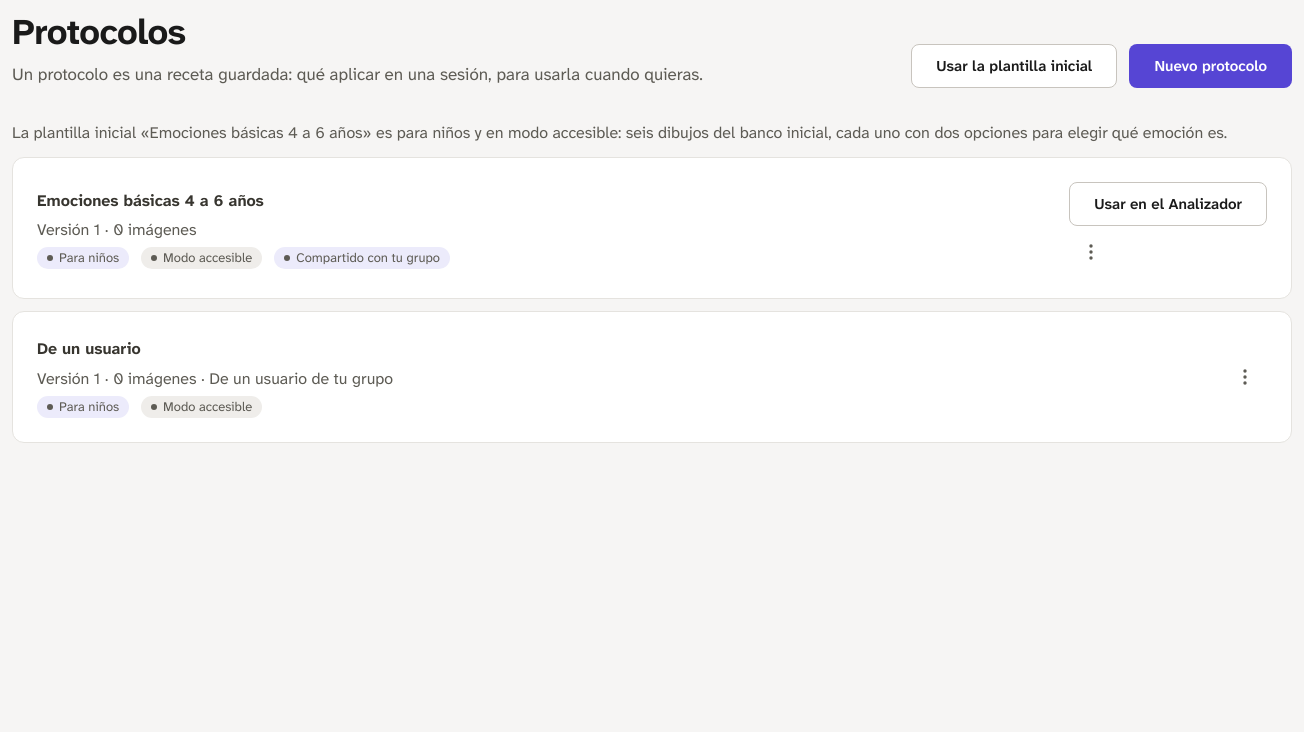
Scenario: plantillas de protocolos › el docente ve cuáles comparte y no copia los de los usuarios de su grupo
Check: the text "Compartido con tu grupo" is shown, box [274, 247, 450, 269]
Click the button named "Más acciones para «Emociones básicas 4 a 6 años»": (1091, 252) [1069, 230, 1113, 274]
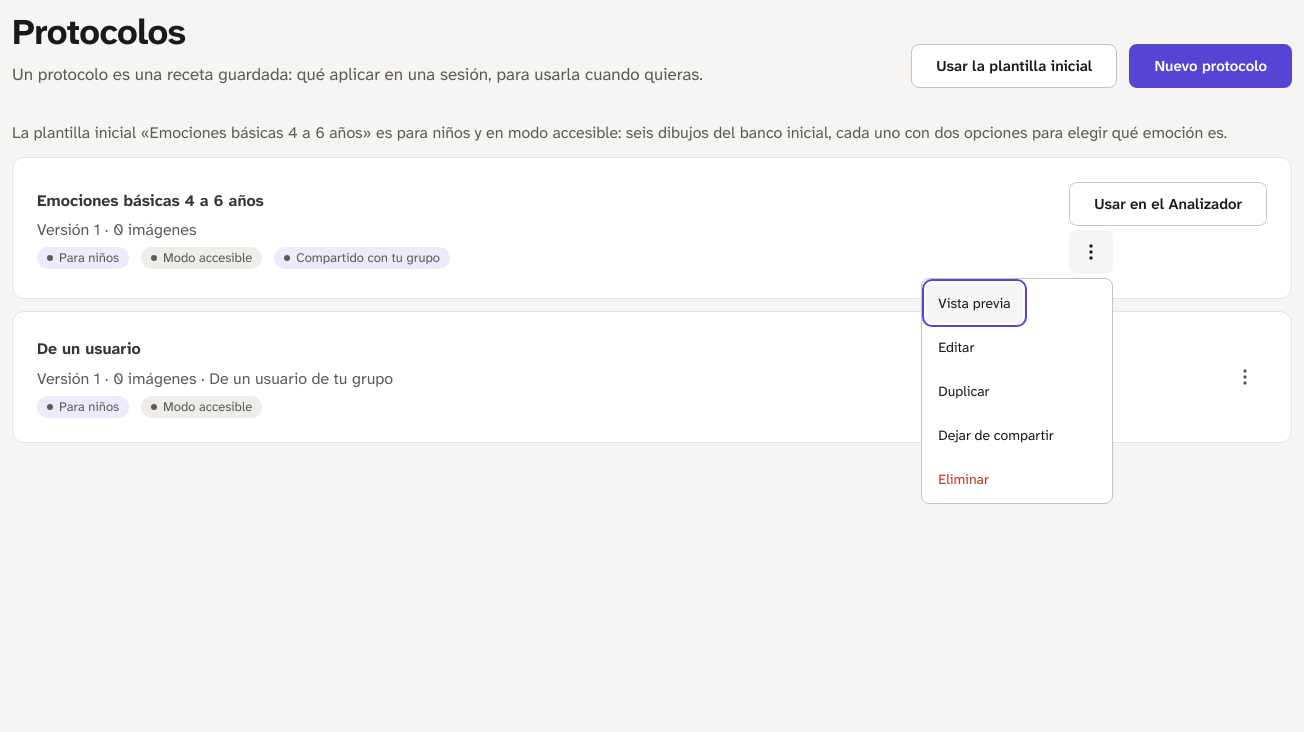
Check: the menu items read "Vista previa", "Editar", "Duplicar", "Dejar de compartir", "Eliminar", in this order, box [926, 283, 1023, 323]; [926, 327, 986, 367]; [926, 371, 1002, 411]; [926, 415, 1066, 455]; [926, 459, 1001, 499]
Press Escape
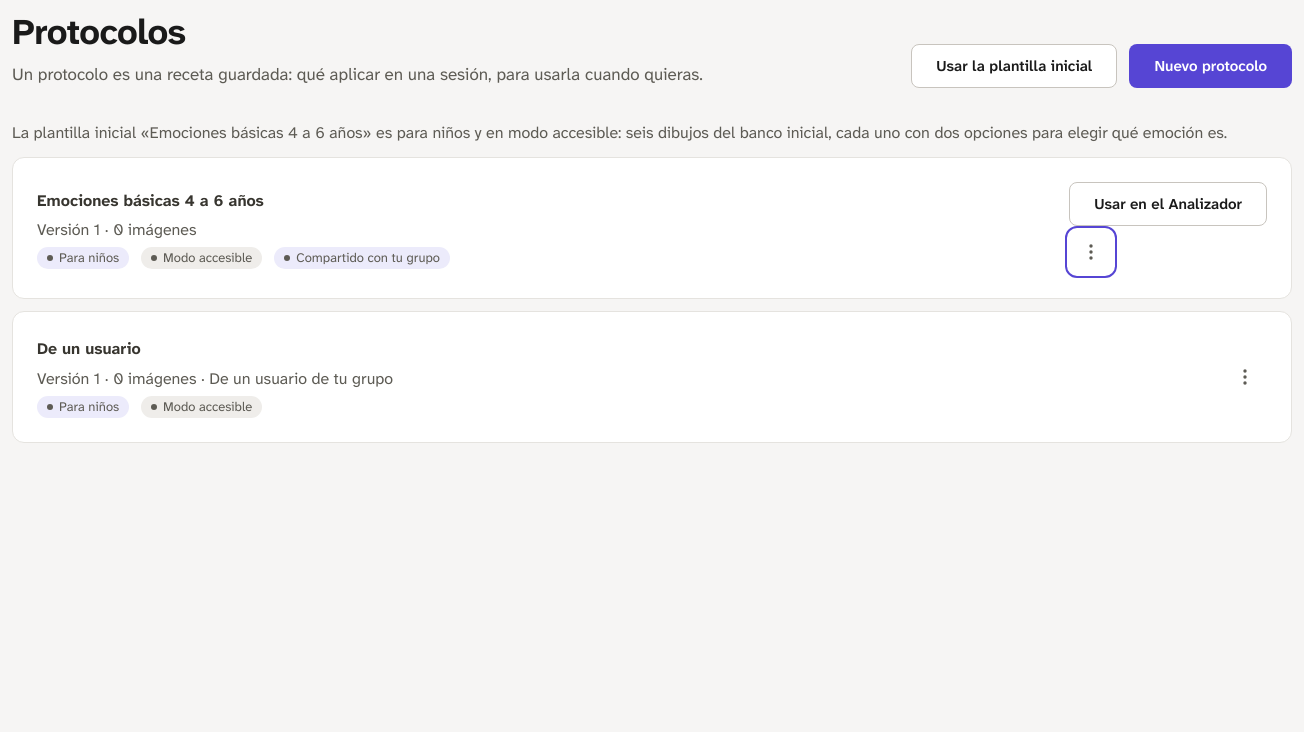
Check: the menu is gone
Click the button named "Más acciones para «De un usuario»": (1245, 377) [1223, 355, 1267, 399]
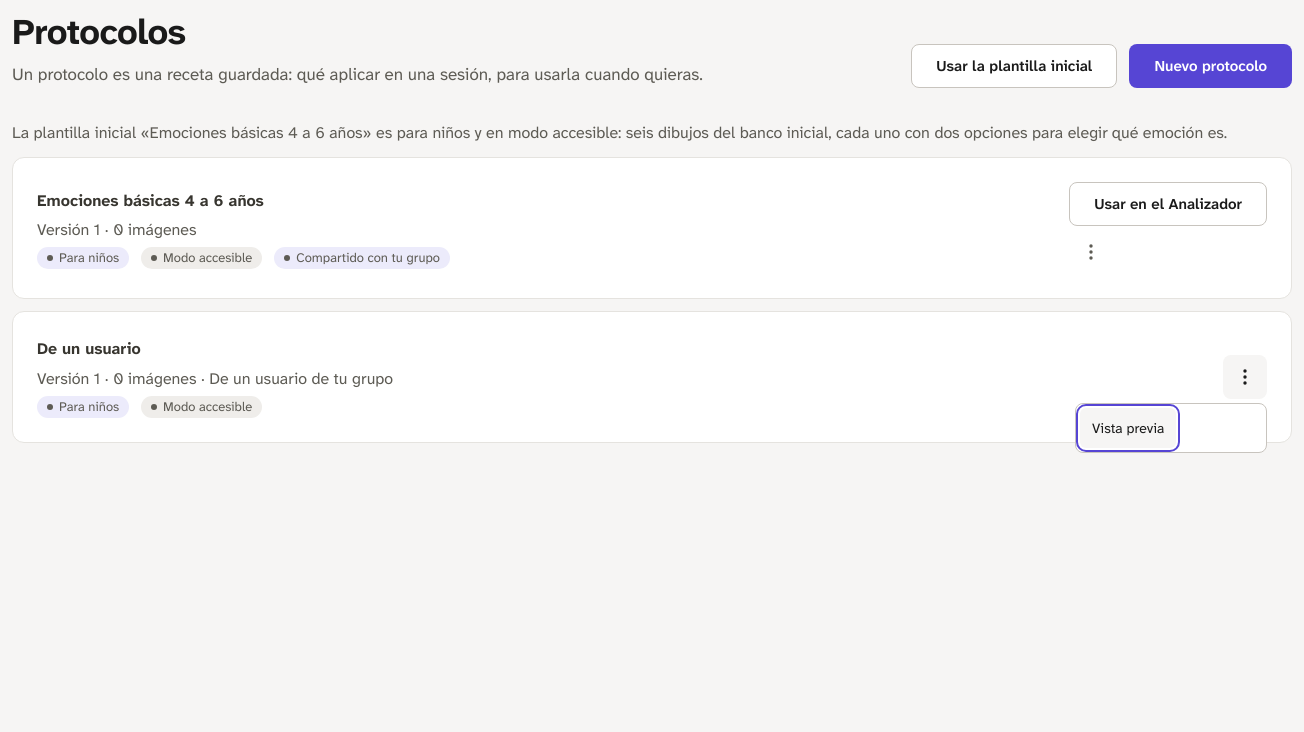
Check: the menu items read "Vista previa", in this order, box [1080, 408, 1176, 448]
